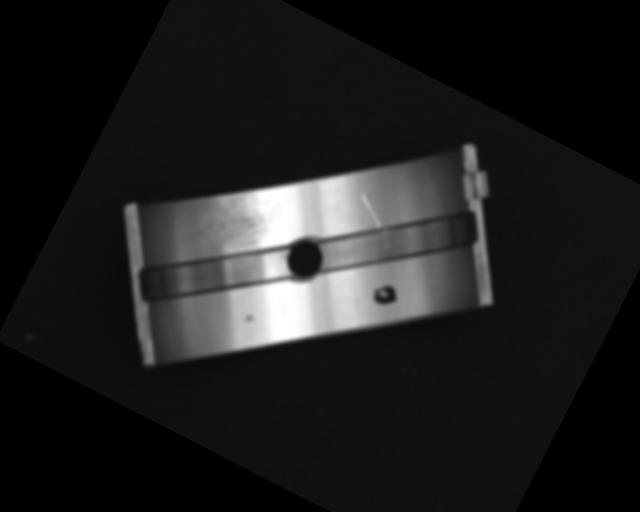blot: (369, 279, 402, 311)
bruise: (244, 312, 256, 324)
gap: (309, 153, 490, 326), (127, 198, 296, 354)
hole: (274, 230, 331, 289)
nick: (348, 190, 391, 229), (340, 282, 374, 321)
scratch: (192, 164, 294, 265)
